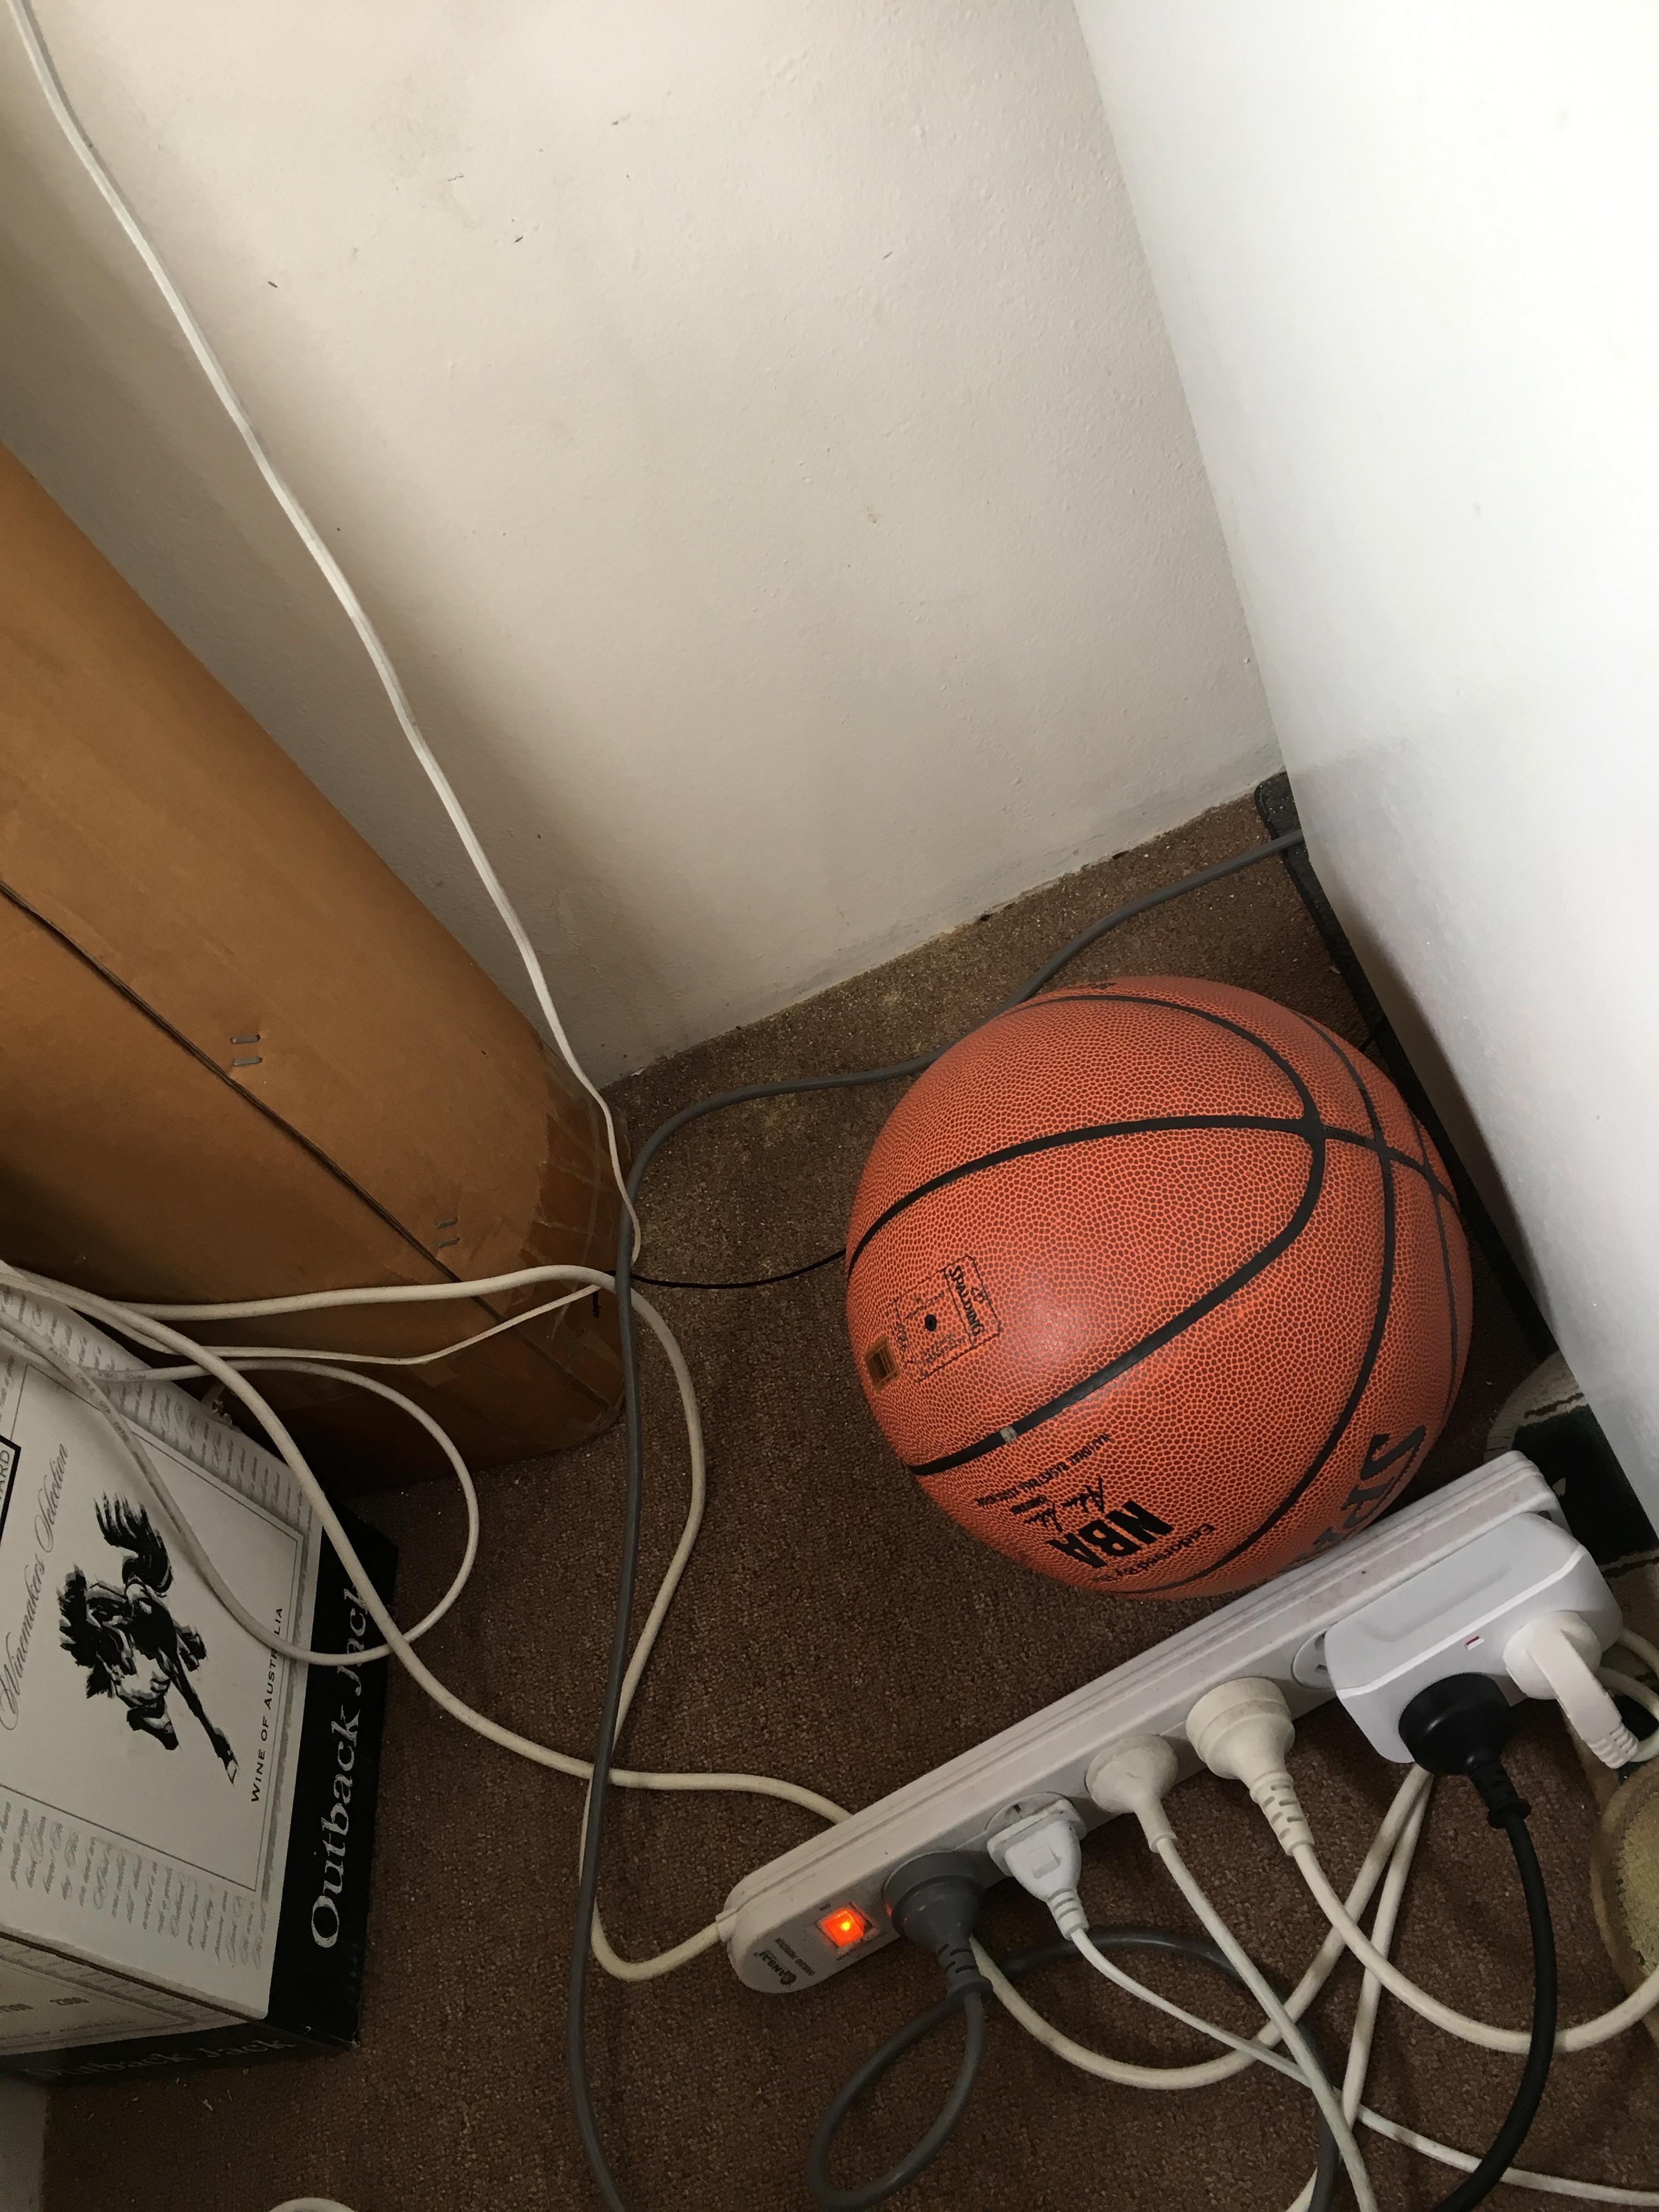Basketball: (828, 965, 1506, 1609)
